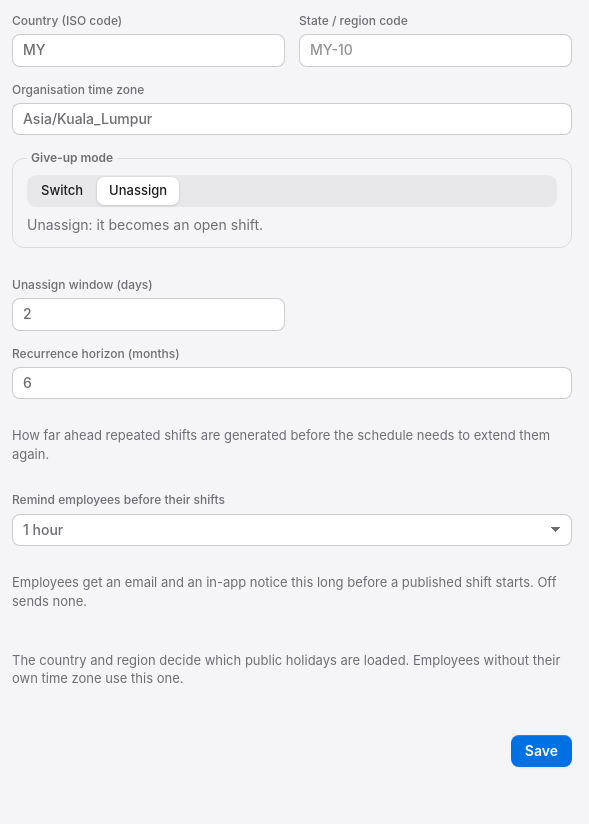
GeneralTab give-up mode › rejects the window  without a request
Clear the number field labelled "Unassign window (days)" at point(148, 315), box [12,298,285,331]
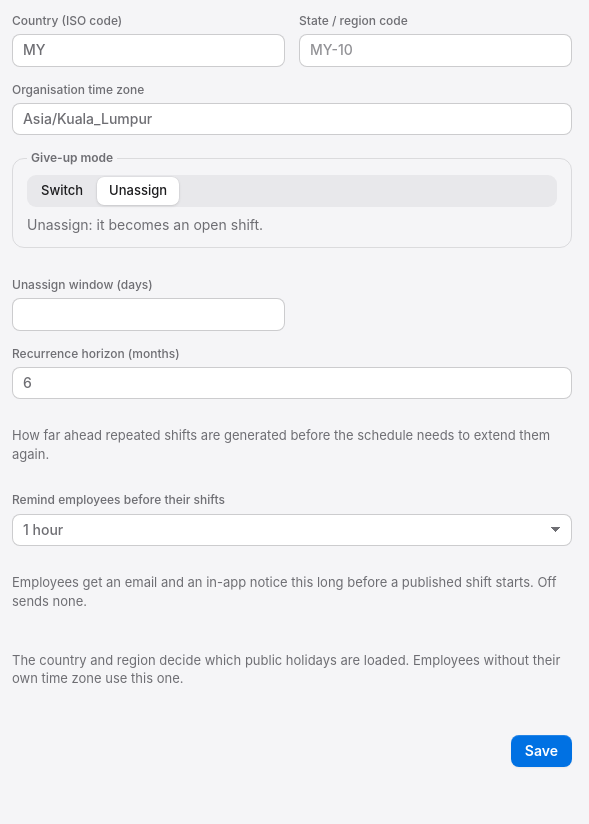
Click the button "Save" at point(541, 751), box [511,735,572,767]
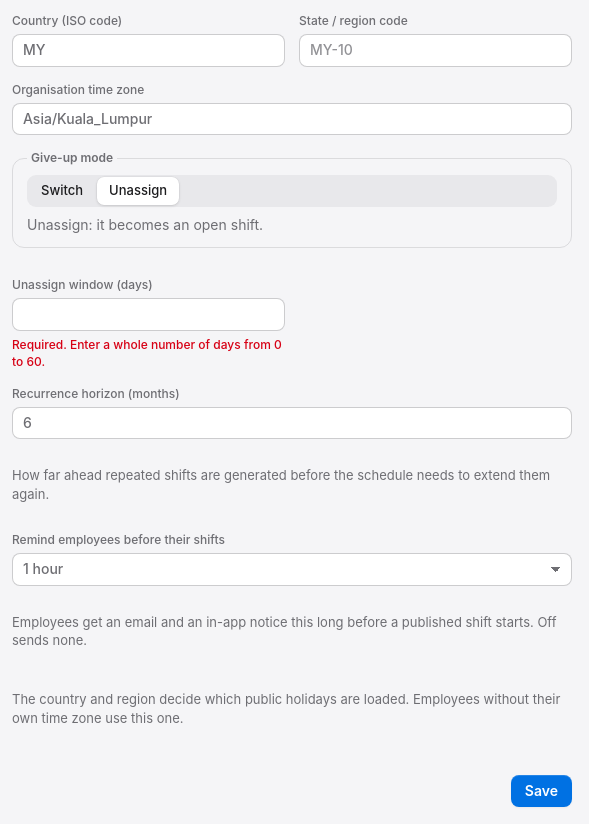
Expected: the text "Required. Enter a whole number of days from 0 to 60." is shown, [12,336,285,371]
